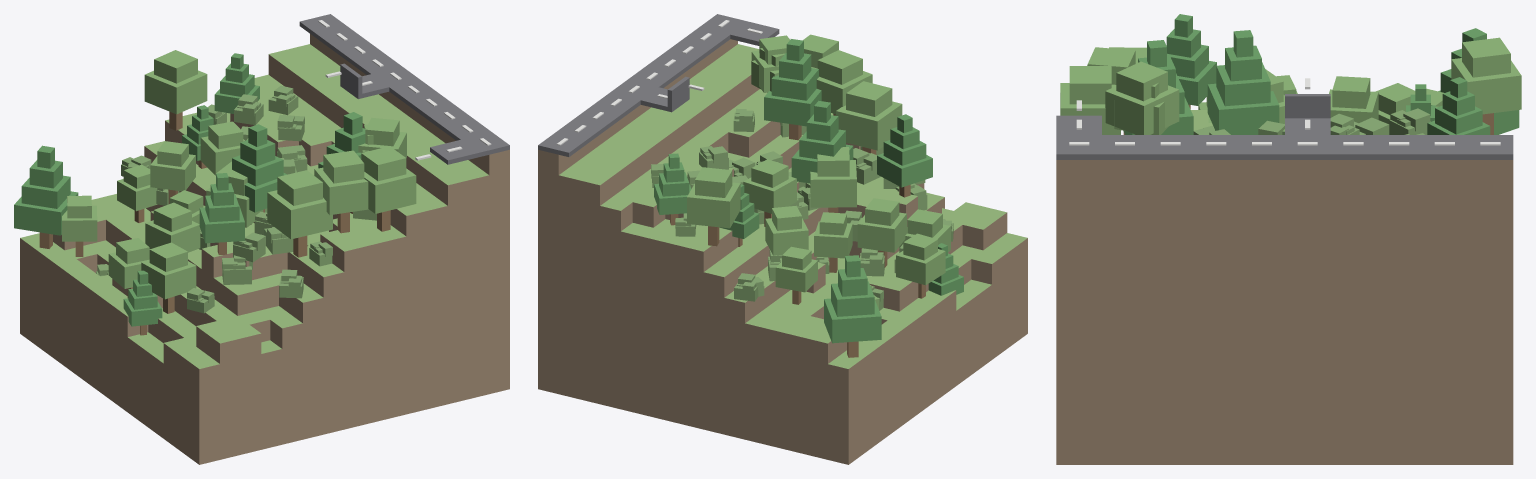
The model's file is block_12_riparian_100.glb.
3 renders of one model, left to right at view 1: azimuth 30°, elevation 25°; view 2: azimuth 150°, elevation 25°; view 3: azimuth 270°, elevation 25°, orthographic. The views are drawn at different scales.
Visible parts, largest first — view 1: Patch_LowerLeft_b11_RP, Roads_LowerLeft_b11_RP, RP_Veg_12_046, RP_Veg_12_045, RP_Veg_12_026, RP_Veg_12_017, RP_Veg_12_016, RP_Veg_12_009, RP_Veg_12_021, RP_Veg_12_048, RP_Veg_12_049, RP_Veg_12_025 (+22 smaller); view 2: Patch_LowerLeft_b11_RP, Roads_LowerLeft_b11_RP, RP_Veg_12_046, RP_Veg_12_043, RP_Veg_12_045, RP_Veg_12_026, RP_Veg_12_021, RP_Veg_12_009, RP_Veg_12_035, RP_Veg_12_049, RP_Veg_12_013, RP_Veg_12_016 (+15 smaller); view 3: Patch_LowerLeft_b11_RP, Roads_LowerLeft_b11_RP, RP_Veg_12_009, RP_Veg_12_026, RP_Veg_12_019, RP_Veg_12_021, RP_Veg_12_017, RP_Veg_12_039, RP_Veg_12_013, RP_Veg_12_043, RP_Veg_12_046, RoadLines_LowerLeft_b11_RP (+7 smaller).
Boxes of the visible parts, x1,y1,x2,y2 form: Patch_LowerLeft_b11_RP: (20, 34, 509, 464); Roads_LowerLeft_b11_RP: (299, 14, 509, 164); RP_Veg_12_046: (14, 145, 78, 248); RP_Veg_12_045: (267, 170, 332, 257); RP_Veg_12_026: (144, 50, 207, 130); RP_Veg_12_017: (361, 146, 416, 231); RP_Veg_12_016: (314, 150, 368, 233); RP_Veg_12_009: (232, 124, 286, 222); RP_Veg_12_021: (199, 173, 244, 254); RP_Veg_12_048: (141, 242, 196, 313); RP_Veg_12_049: (145, 202, 200, 252); RP_Veg_12_025: (150, 141, 195, 203); Patch_LowerLeft_b11_RP: (538, 39, 1027, 464); Roads_LowerLeft_b11_RP: (538, 14, 779, 156); RP_Veg_12_046: (824, 255, 881, 357); RP_Veg_12_043: (764, 39, 821, 140); RP_Veg_12_045: (836, 81, 902, 154); RP_Veg_12_026: (687, 167, 740, 246); RP_Veg_12_021: (877, 114, 932, 197); RP_Veg_12_009: (791, 100, 853, 183); RP_Veg_12_035: (810, 147, 856, 212); RP_Veg_12_049: (857, 198, 906, 267); RP_Veg_12_013: (743, 159, 796, 226); RP_Veg_12_016: (816, 50, 872, 115); Patch_LowerLeft_b11_RP: (1056, 110, 1513, 464); Roads_LowerLeft_b11_RP: (1056, 94, 1513, 159); RP_Veg_12_009: (1207, 30, 1279, 134); RP_Veg_12_026: (1451, 37, 1521, 134); RP_Veg_12_019: (1105, 61, 1179, 134); RP_Veg_12_021: (1166, 14, 1216, 108); RP_Veg_12_017: (1060, 66, 1120, 134); RP_Veg_12_039: (1427, 77, 1490, 134); RP_Veg_12_013: (1329, 76, 1378, 123); RP_Veg_12_043: (1123, 40, 1193, 134); RP_Veg_12_046: (1438, 28, 1519, 134); RoadLines_LowerLeft_b11_RP: (1069, 78, 1500, 145).
Size of the model in its own units: 10.1 by 7.98 by 9.67.
